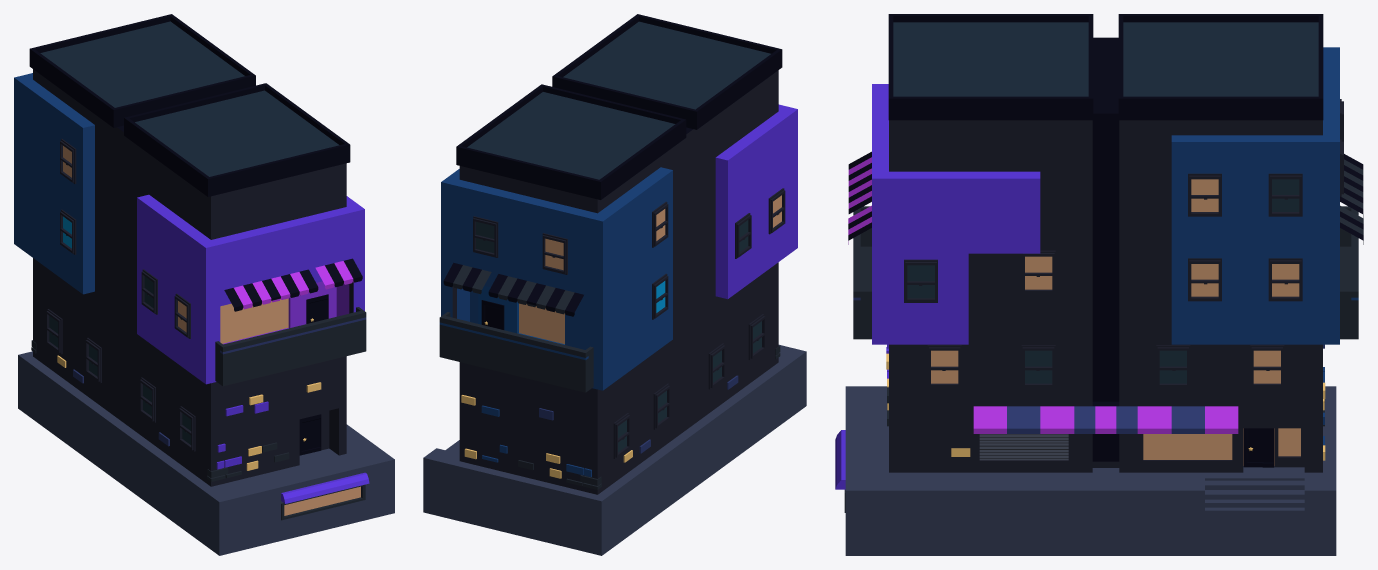
File: Building_MintApartment07.fbx
The picture shows the model from 3 angles, left to right: view 1: azimuth 30°, elevation 25°; view 2: azimuth 150°, elevation 25°; view 3: azimuth 270°, elevation 25°; orthographic projection. The views are drawn at different scales.
Parts seen in each view (by area): view 1: Cube.802, Cube.804, Cube.805; view 2: Cube.802, Cube.806; view 3: Cube.802, Cube.803.
Boxes of the visible parts, left/top/right/bottom form: Cube.802: left=14, top=14, right=394, bottom=555; Cube.804: left=299, top=414, right=321, bottom=455; Cube.805: left=306, top=294, right=328, bottom=323; Cube.802: left=423, top=14, right=806, bottom=555; Cube.806: left=481, top=300, right=504, bottom=329; Cube.802: left=835, top=14, right=1363, bottom=555; Cube.803: left=1243, top=428, right=1274, bottom=467.
Bounding box in the file's own units: 761 × 1413 × 1532.
